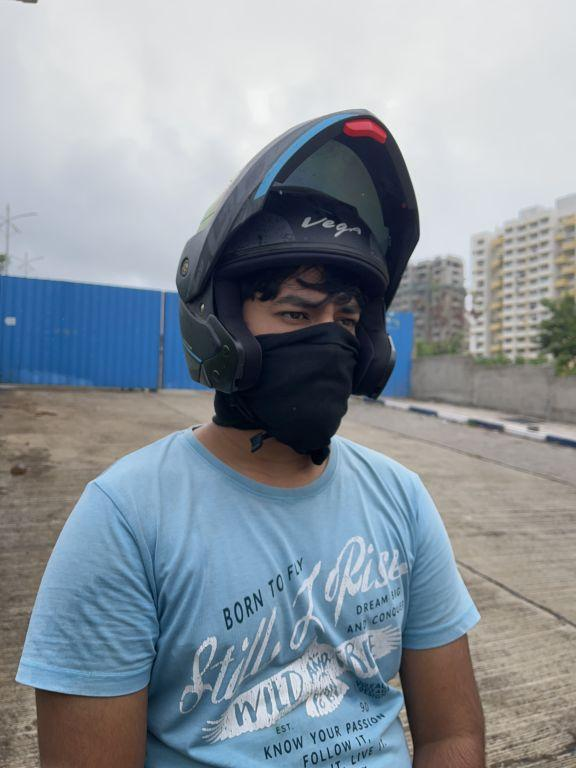helmet: (165, 90, 426, 455)
